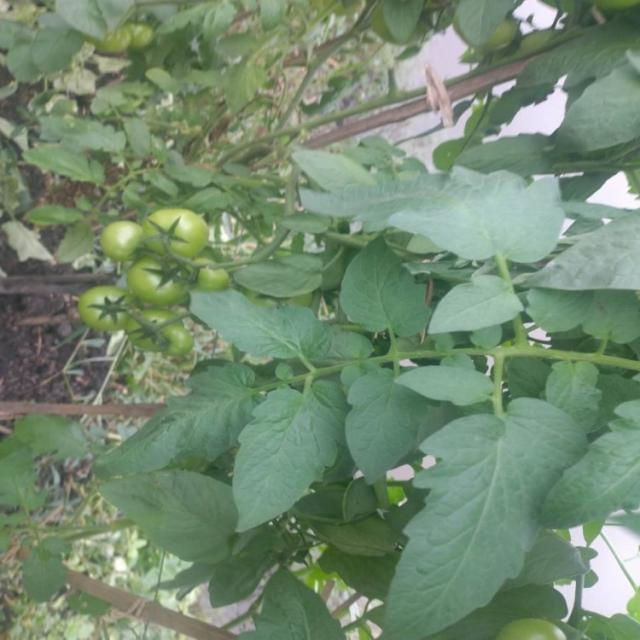tomato: (123, 306, 202, 366), (146, 203, 220, 258), (126, 258, 194, 304), (73, 283, 135, 328), (497, 612, 570, 640), (104, 217, 139, 256), (199, 263, 233, 299)
